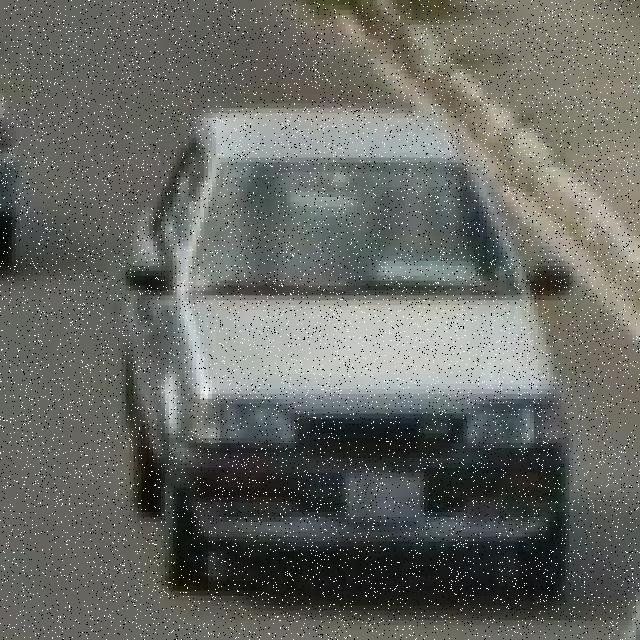cars: (128, 112, 574, 598)
